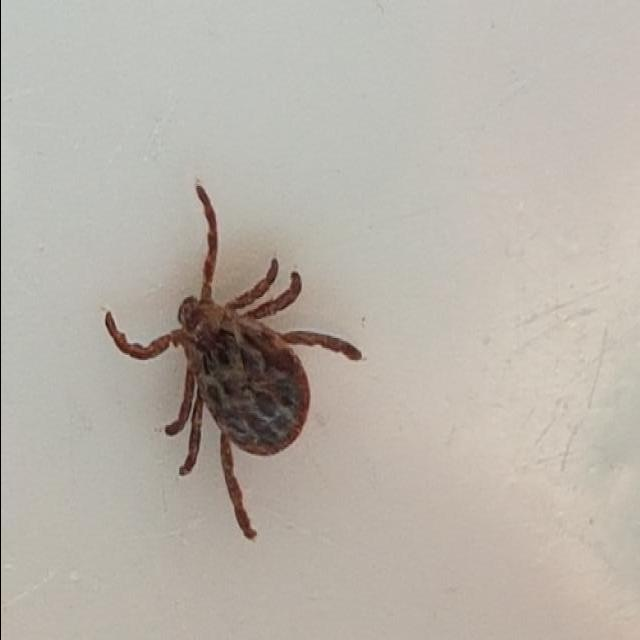Dermacentor Reticulatus-M: (101, 181, 361, 541)
